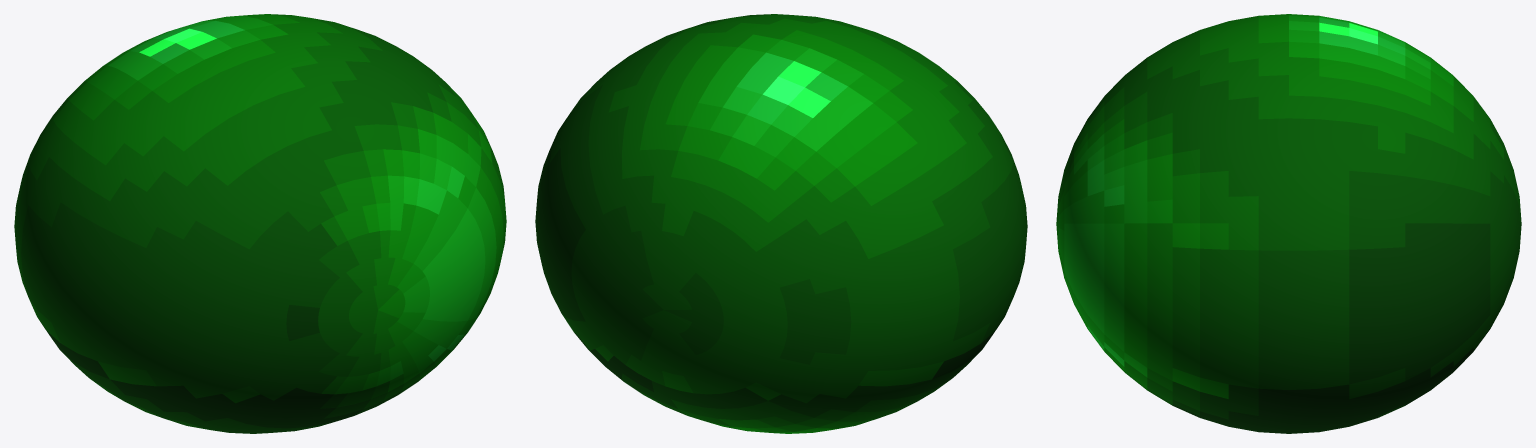
The model's file is gyges_orb_m.glb.
The picture shows the model from 3 angles, left to right: view 1: azimuth 30°, elevation 25°; view 2: azimuth 150°, elevation 25°; view 3: azimuth 270°, elevation 25°; orthographic projection.
Visible parts, largest first — view 1: gyges_orb_m_ball; view 2: gyges_orb_m_ball; view 3: gyges_orb_m_ball.
Boxes of the visible parts, <box> form: gyges_orb_m_ball: <box>14,14,506,433</box>; gyges_orb_m_ball: <box>535,14,1027,433</box>; gyges_orb_m_ball: <box>1056,14,1521,433</box>.
Bounding box in the file's own units: 17.2 × 14 × 16.2.
